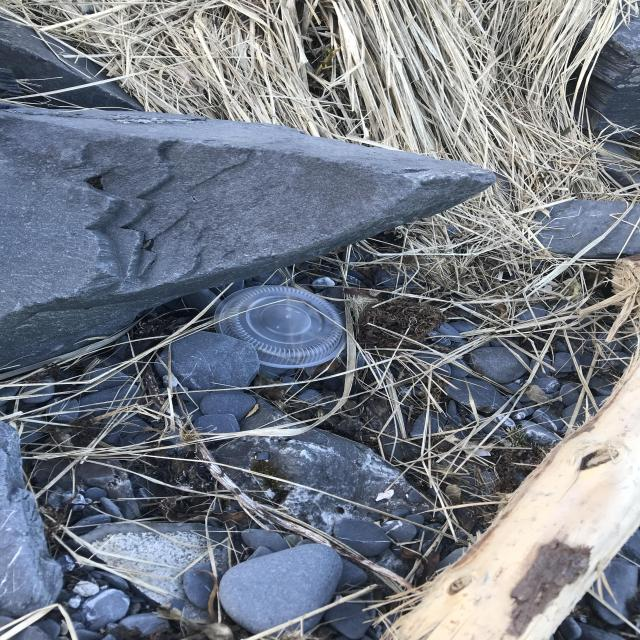litter: (382, 218, 492, 315)
